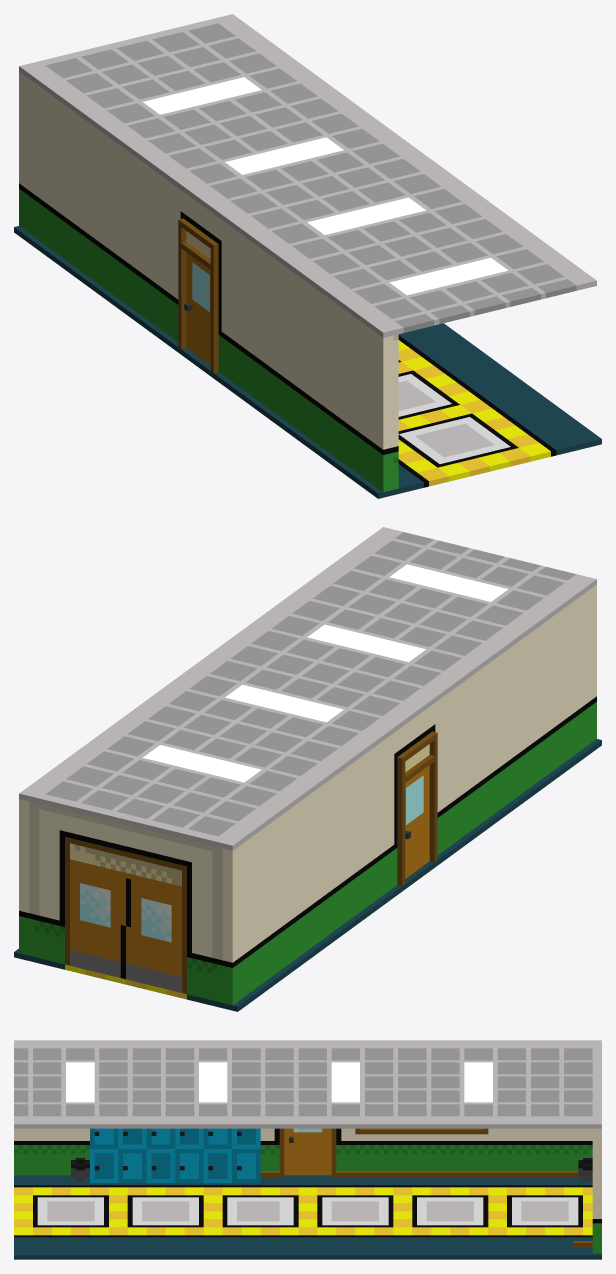
The model's file is Escenario_Escuela.glb.
3 renders of one model, top to bottom at view 1: azimuth 30°, elevation 25°; view 2: azimuth 150°, elevation 25°; view 3: azimuth 270°, elevation 25°, orthographic. The views are drawn at different scales.
Parts seen in each view (by area): view 1: Techo, Paredes, Piso, Luces; view 2: Paredes, Techo, Luces, Piso; view 3: Techo, Piso, Paredes, Casillero, Luces, Bote de Basura.
Boxes of the visible parts, box(x1,y1,x2,y2) form: Techo: box(19, 14, 596, 337); Paredes: box(19, 71, 398, 492); Piso: box(14, 226, 601, 498); Luces: box(143, 77, 508, 295); Paredes: box(19, 584, 596, 1005); Techo: box(19, 527, 596, 850); Luces: box(143, 564, 508, 782); Piso: box(14, 739, 601, 1011); Techo: box(14, 1040, 601, 1128); Piso: box(14, 1175, 601, 1259); Paredes: box(14, 1128, 601, 1253); Casillero: box(90, 1128, 260, 1183); Luces: box(66, 1062, 492, 1102); Bote de Basura: box(71, 1158, 592, 1181).
Bounding box in the file's own units: 44 × 31 × 124.
2 materials, 2 textured.
